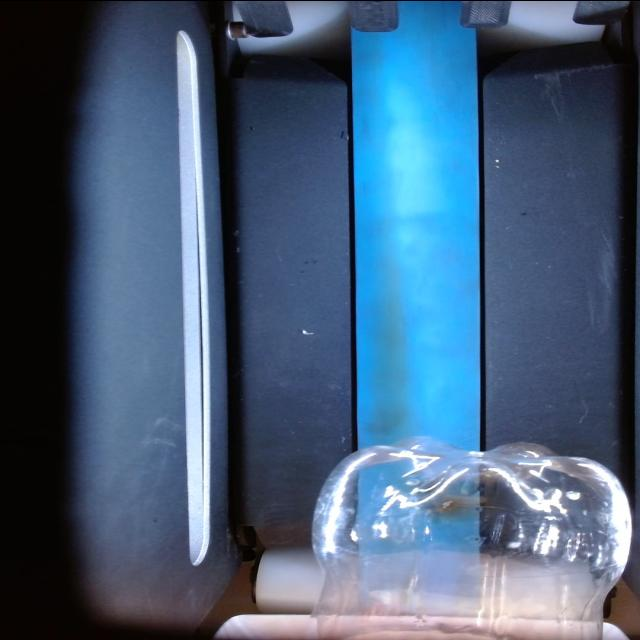bottom: (314, 438, 631, 640)
